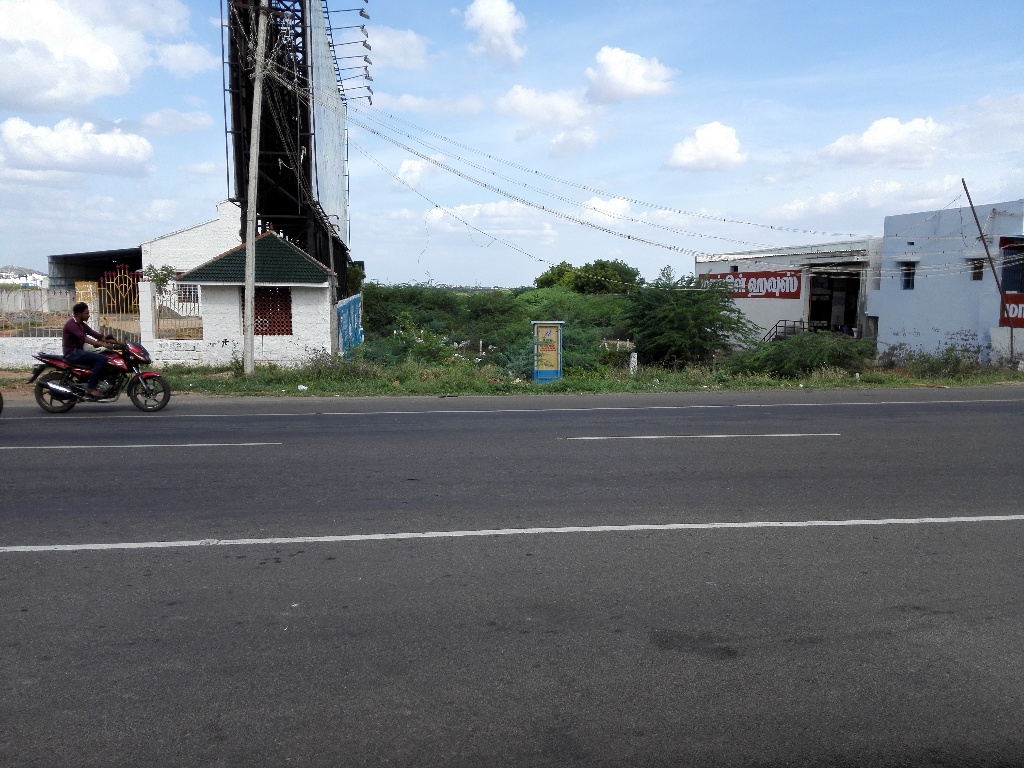biker: (21, 287, 183, 419)
nohelmet: (66, 296, 102, 331)
